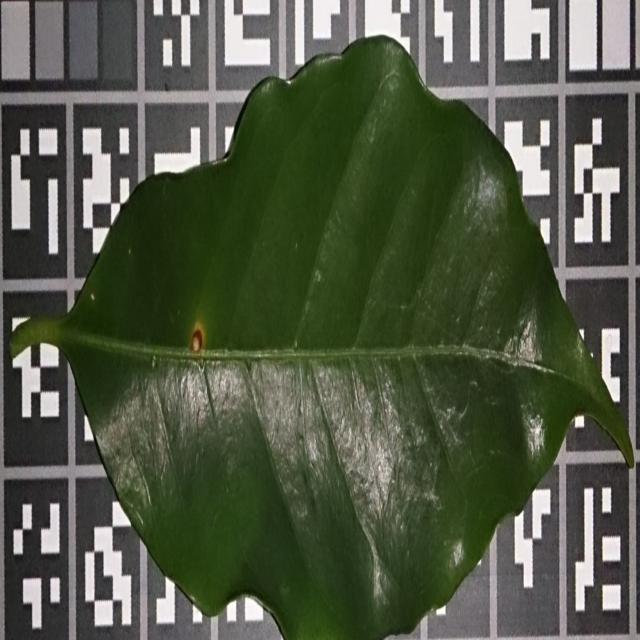Enfermedad-Mancha-de-hierro: (9, 35, 638, 640)
